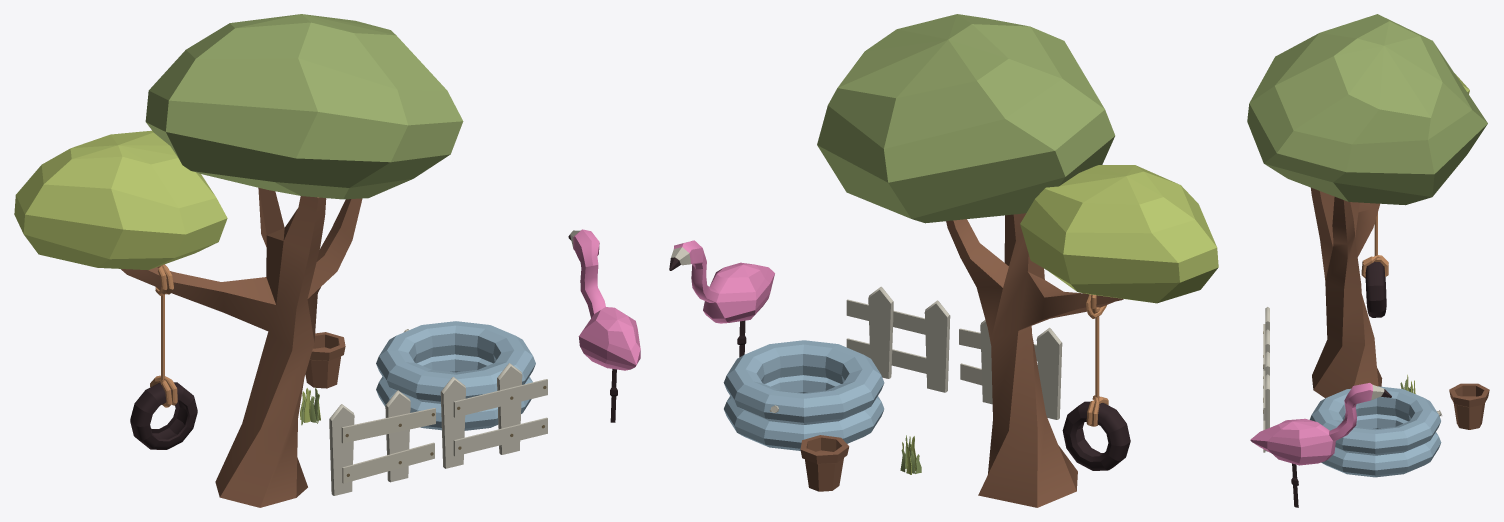
File: garden_selection.fbx
The picture shows the model from 3 angles, left to right: view 1: azimuth 30°, elevation 25°; view 2: azimuth 150°, elevation 25°; view 3: azimuth 270°, elevation 25°; orthographic projection. The views are drawn at different scales.
Parts seen in each view (by area): view 1: pCylinder12, pTorus4, polySurface20, polySurface8, pSphere1, pCylinder13; view 2: pCylinder12, pTorus4, polySurface8, pSphere1, polySurface20, pCylinder13; view 3: pCylinder12, pTorus4, pSphere1, pCylinder13, polySurface8, polySurface20.
Boxes of the visible parts, x1,y1,x2,y2 form: pCylinder12: (14,14,463,507); pTorus4: (376,321,535,430); polySurface20: (329,390,435,495); polySurface8: (440,363,547,468); pSphere1: (568,229,640,422); pCylinder13: (305,332,345,388); pCylinder12: (817,14,1218,507); pTorus4: (723,340,884,450); polySurface8: (846,286,950,392); pSphere1: (669,240,774,357); polySurface20: (959,320,1062,419); pCylinder13: (800,435,849,491); pCylinder12: (1247,14,1487,398); pTorus4: (1309,386,1442,477); pSphere1: (1250,383,1391,507); pCylinder13: (1449,383,1489,429); polySurface8: (1263,351,1269,452); polySurface20: (1263,307,1269,399).
Size of the model in its own units: 16.3 by 12.76 by 7.42.
